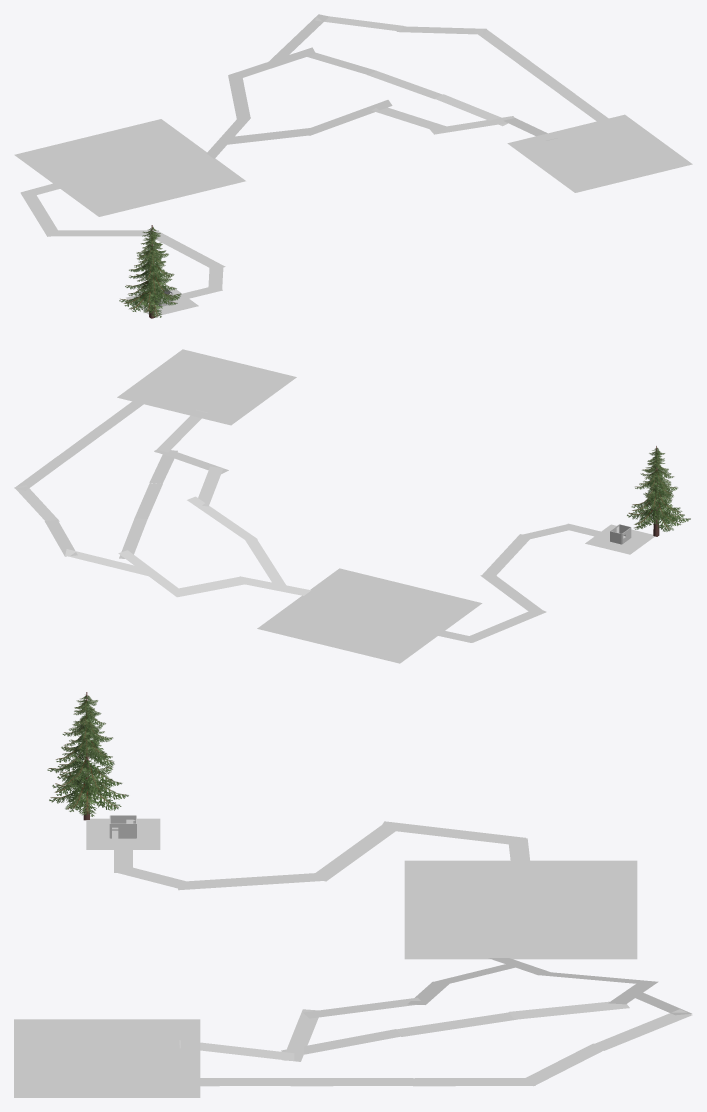
Rendered from layout_01.glb.
3 renders of one model, top to bottom at view 1: azimuth 30°, elevation 25°; view 2: azimuth 150°, elevation 25°; view 3: azimuth 270°, elevation 25°, orthographic. The views are drawn at different scales.
Visible parts, largest first — view 1: Plane.005, Plane.006, Cube.001, Plane.011, Plane.015, Plane.026, Plane.010, Plane.025, Plane.004, Plane.024, Plane.012, Plane.009 (+11 smaller); view 2: Plane.005, Plane.006, Cube.001, Plane.001, Plane.015, Plane.010, Plane.011, Plane.026, Plane.025, Plane.024, Plane.004, Plane.009 (+10 smaller); view 3: Plane.005, Plane.006, Cube.001, Plane.001, Plane.004, Plane.025, Plane.024, Plane.017, Plane.019, Plane.018, Plane.014, Plane.008 (+7 smaller).
Part boxes in pixels (<box>): Plane.005: <box>14,119,245,216</box>; Plane.006: <box>507,114,692,192</box>; Cube.001: <box>119,225,181,318</box>; Plane.011: <box>305,100,392,135</box>; Plane.015: <box>268,14,329,64</box>; Plane.026: <box>20,168,115,196</box>; Plane.010: <box>228,73,250,121</box>; Plane.025: <box>20,192,60,236</box>; Plane.004: <box>148,231,225,269</box>; Plane.024: <box>51,230,158,236</box>; Plane.012: <box>228,47,315,80</box>; Plane.009: <box>228,128,312,144</box>; Plane.005: <box>257,568,482,663</box>; Plane.006: <box>117,349,296,425</box>; Cube.001: <box>627,446,690,536</box>; Plane.001: <box>585,524,654,554</box>; Plane.015: <box>65,549,150,576</box>; Plane.010: <box>171,576,247,596</box>; Plane.011: <box>187,496,257,542</box>; Plane.026: <box>379,618,477,642</box>; Plane.025: <box>464,608,546,642</box>; Plane.024: <box>480,573,543,613</box>; Plane.004: <box>482,534,529,576</box>; Plane.009: <box>245,539,285,585</box>; Plane.005: <box>404,860,637,959</box>; Plane.006: <box>14,1019,200,1097</box>; Cube.001: <box>47,692,128,820</box>; Plane.001: <box>86,818,160,849</box>; Plane.004: <box>175,872,323,890</box>; Plane.025: <box>380,821,525,845</box>; Plane.024: <box>314,824,399,881</box>; Plane.017: <box>397,1012,515,1036</box>; Plane.019: <box>591,1009,692,1050</box>; Plane.018: <box>290,1078,412,1086</box>; Plane.014: <box>509,1001,629,1019</box>; Plane.008: <box>413,1078,535,1086</box>.
Size of the model in its own units: 134 by 22.6 by 105.
3 materials, 1 textured.
